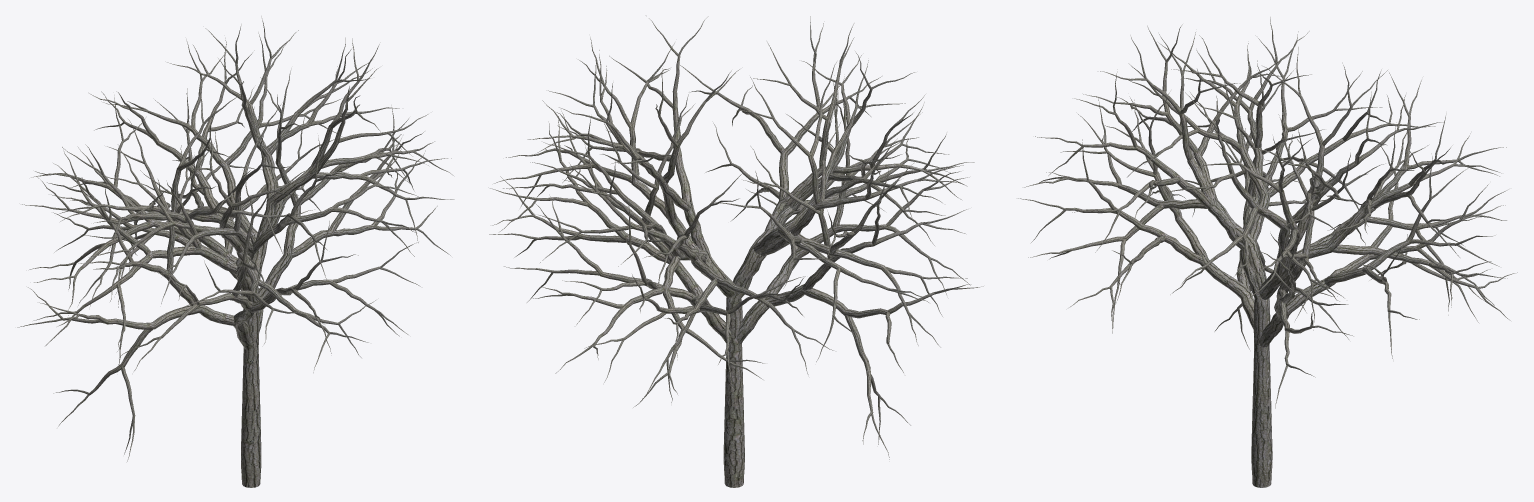
File: tree.glb
3 views of the same model, side by side, from view 1: azimuth 30°, elevation 25°; view 2: azimuth 150°, elevation 25°; view 3: azimuth 270°, elevation 25° (orthographic). The views are drawn at different scales.
Visible parts, largest first — view 1: Tree; view 2: Tree; view 3: Tree.
Boxes of the visible parts, bbox=[...] form: Tree: bbox=[17, 16, 454, 487]; Tree: bbox=[489, 16, 983, 487]; Tree: bbox=[1018, 17, 1517, 487].
Size of the model in its own units: 11.56 by 10.77 by 11.24.
1 material, 1 textured.
